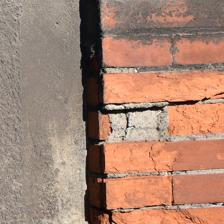Crack: (82, 30, 141, 103), (108, 0, 136, 30)
